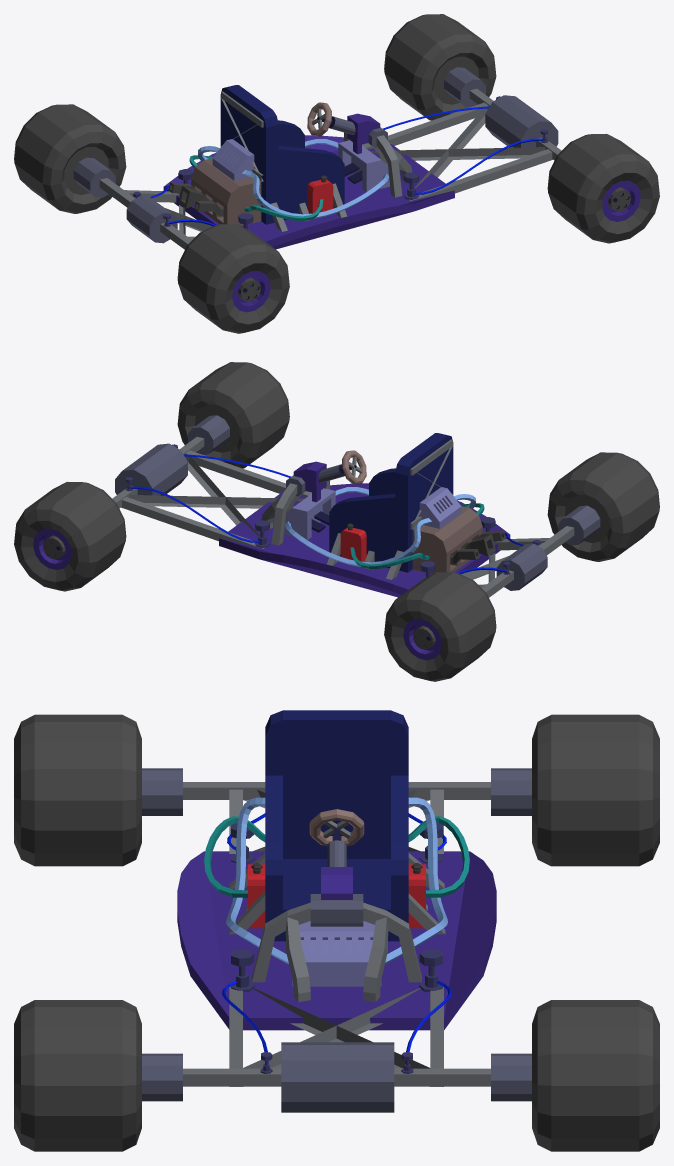
File: Kart.glb
3 views of the same model, one above another, from view 1: azimuth 30°, elevation 25°; view 2: azimuth 150°, elevation 25°; view 3: azimuth 270°, elevation 25° (orthographic). The views are drawn at different scales.
Parts seen in each view (by area): view 1: Cube; view 2: Cube; view 3: Cube.
Boxes of the visible parts, x1,y1,x2,y2 form: Cube: [14, 14, 659, 333]; Cube: [14, 362, 659, 681]; Cube: [14, 710, 659, 1151].
Bounding box in the file's own units: 8.64 × 2.53 × 6.75.
